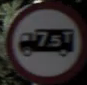Heavy Vehicles: (8, 2, 79, 73)
